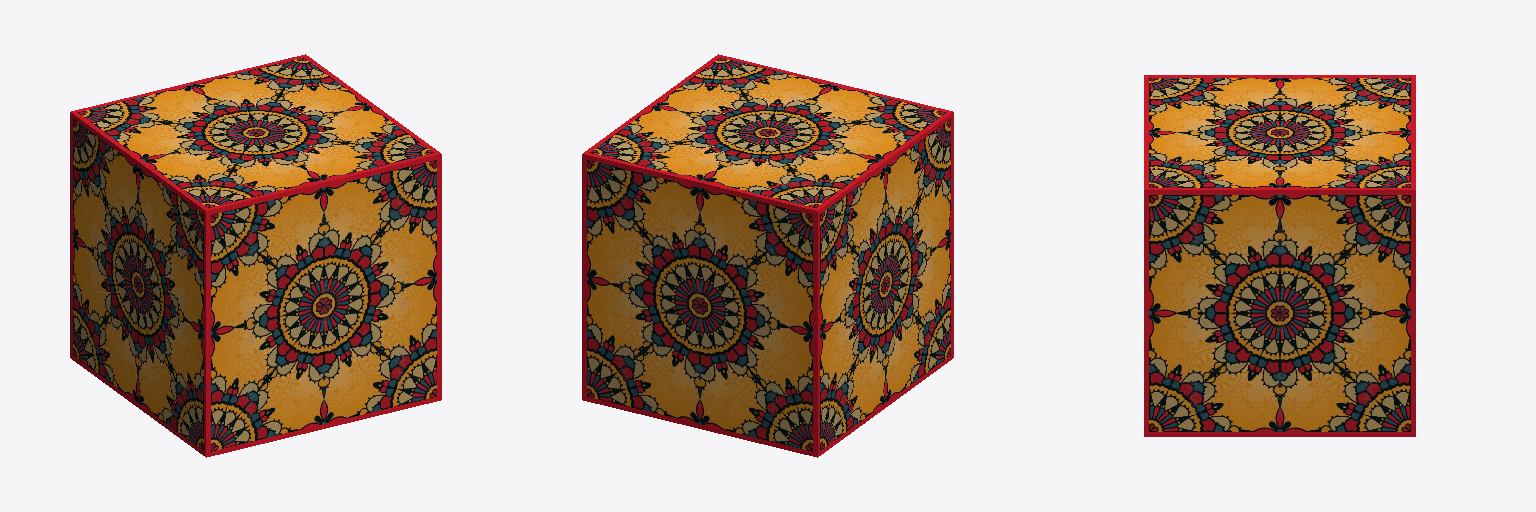
3 views of the same model, side by side, from view 1: azimuth 30°, elevation 25°; view 2: azimuth 150°, elevation 25°; view 3: azimuth 270°, elevation 25° (orthographic).
Parts seen in each view (by area): view 1: Cube; view 2: Cube; view 3: Cube.
Part boxes in pixels (bbox=[...]): Cube: bbox=[70, 54, 441, 457]; Cube: bbox=[582, 54, 953, 457]; Cube: bbox=[1144, 75, 1415, 436].
Size of the model in its own units: 2 by 2 by 2.
Materials: 1 (1 with a texture image).